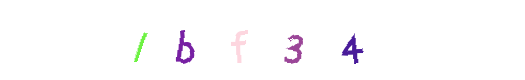3: (227, 0, 307, 80)
4: (242, 0, 322, 80)
B: (201, 0, 281, 80)
F: (222, 0, 302, 80)
L: (100, 0, 180, 80)
